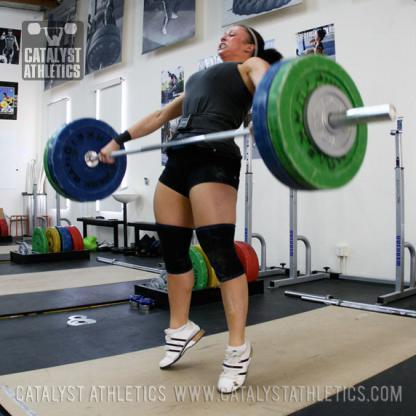barbell: (45, 53, 397, 200)
